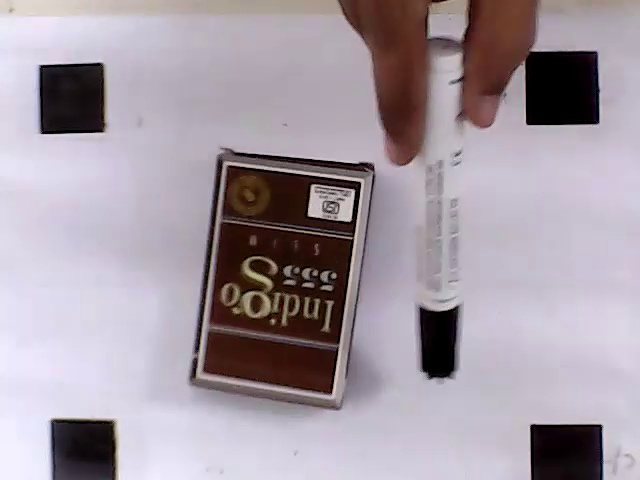BEX: (199, 162, 364, 397)
